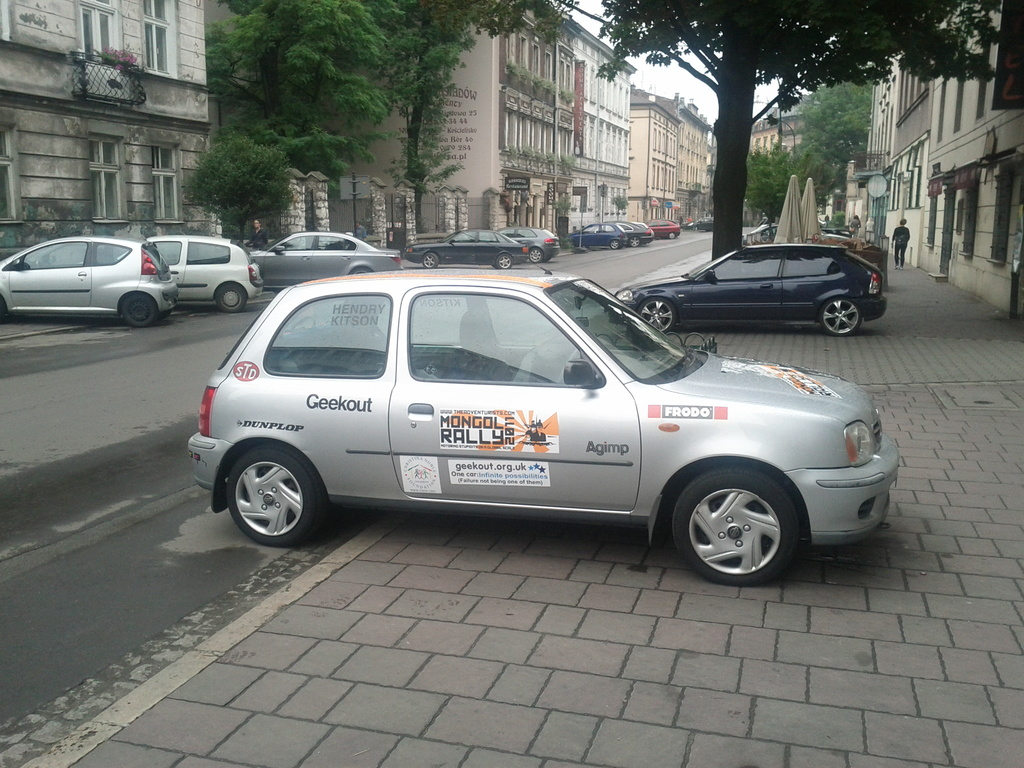Car: (183, 265, 871, 575), (614, 240, 889, 336), (0, 231, 181, 325), (249, 229, 403, 291), (144, 234, 265, 309), (407, 224, 529, 266), (498, 224, 563, 261), (569, 219, 650, 248), (646, 218, 678, 240), (688, 216, 714, 232), (632, 219, 652, 236)
